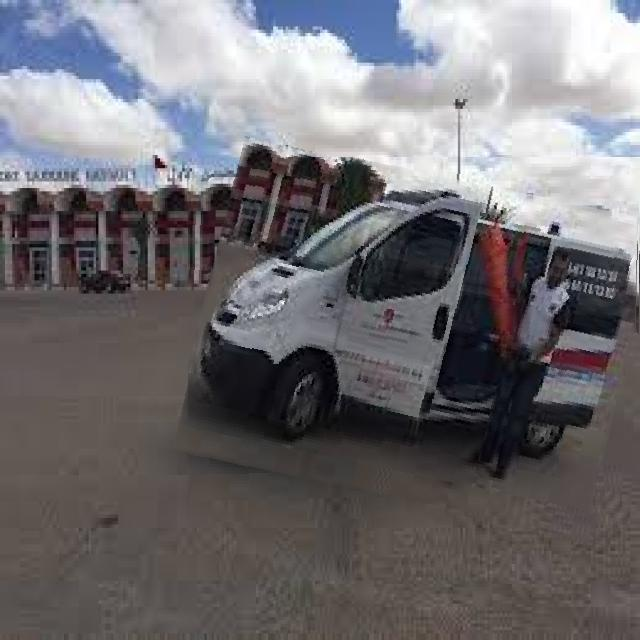ambulance: (188, 157, 640, 523)
